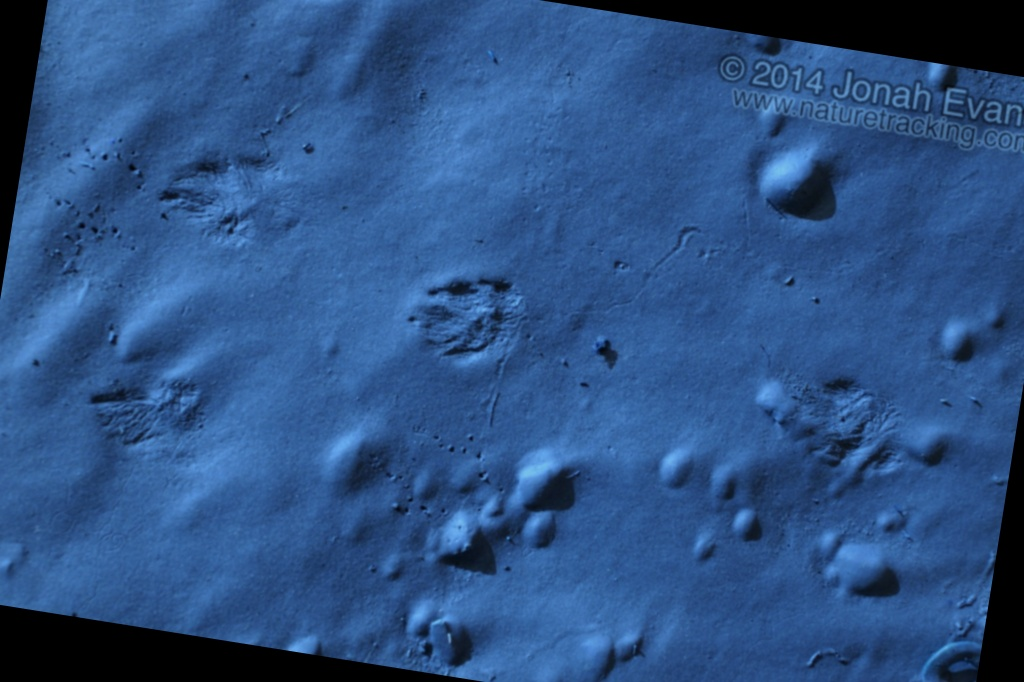lapin: (135, 172, 294, 311), (396, 253, 535, 387), (95, 422, 238, 509)
